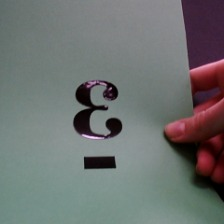green3: (68, 76, 135, 179)
